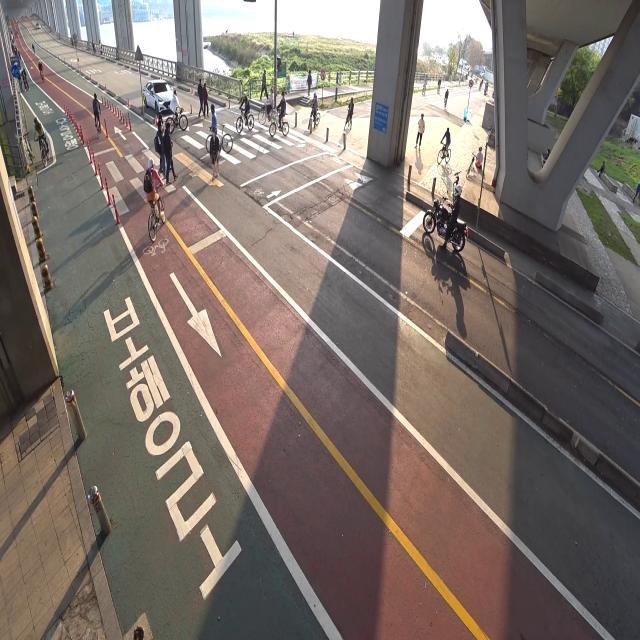Car: (137, 73, 182, 118)
Motorcycle: (421, 178, 467, 252)
